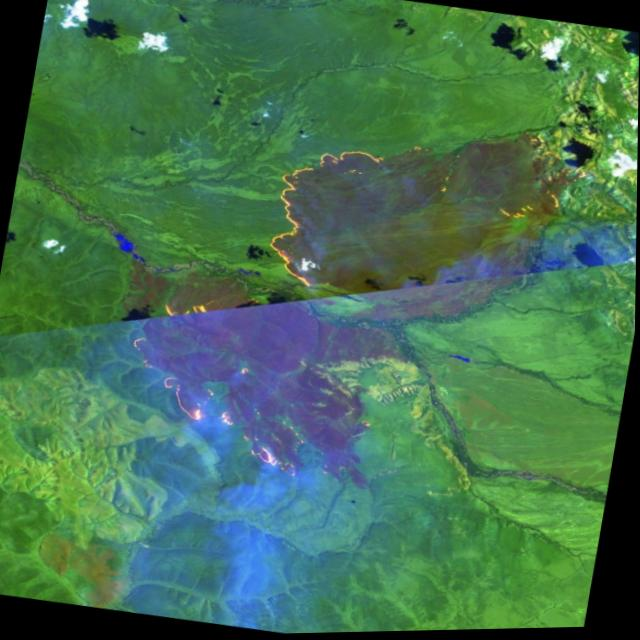fire: (108, 288, 329, 486), (251, 138, 385, 304), (485, 118, 583, 241)
